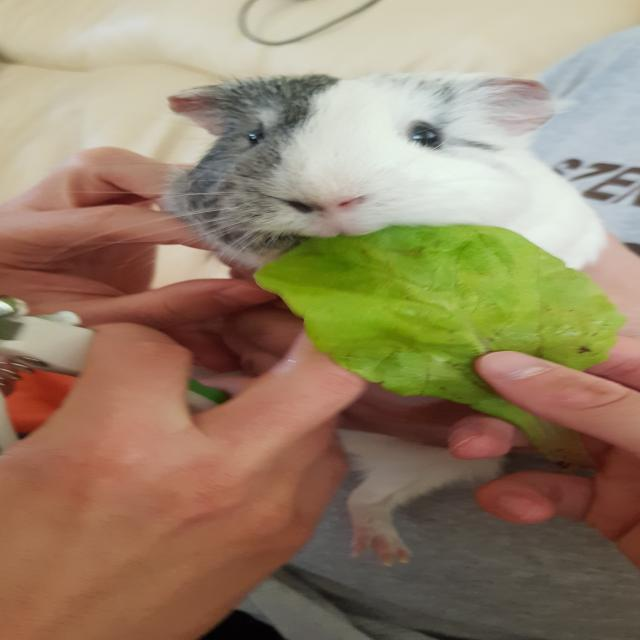guinea pig: (131, 67, 614, 562)
